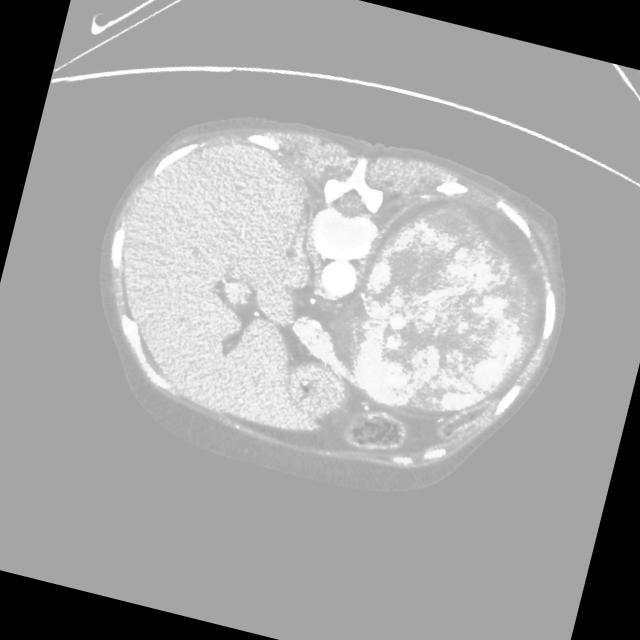TUMOR: (204, 163, 579, 482)
